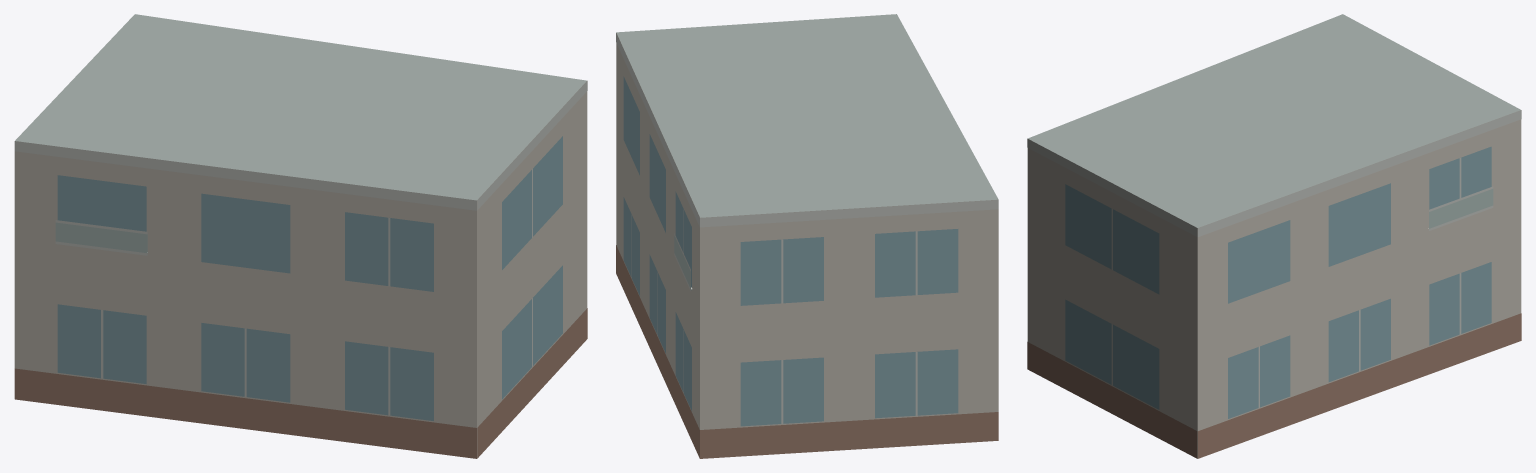
Rendered from survey-upis-32659806.glb.
3 renders of one model, left to right at view 1: azimuth 30°, elevation 25°; view 2: azimuth 150°, elevation 25°; view 3: azimuth 270°, elevation 25°, orthographic. The views are drawn at different scales.
Visible parts, largest first — view 1: survey-upis-32659806.tmp; view 2: survey-upis-32659806.tmp; view 3: survey-upis-32659806.tmp.
Boxes of the visible parts, x1,y1,x2,y2 form: survey-upis-32659806.tmp: [14, 14, 587, 458]; survey-upis-32659806.tmp: [616, 14, 998, 458]; survey-upis-32659806.tmp: [1027, 14, 1521, 458].
Size of the model in its own units: 12.15 by 6.1 by 11.84.
